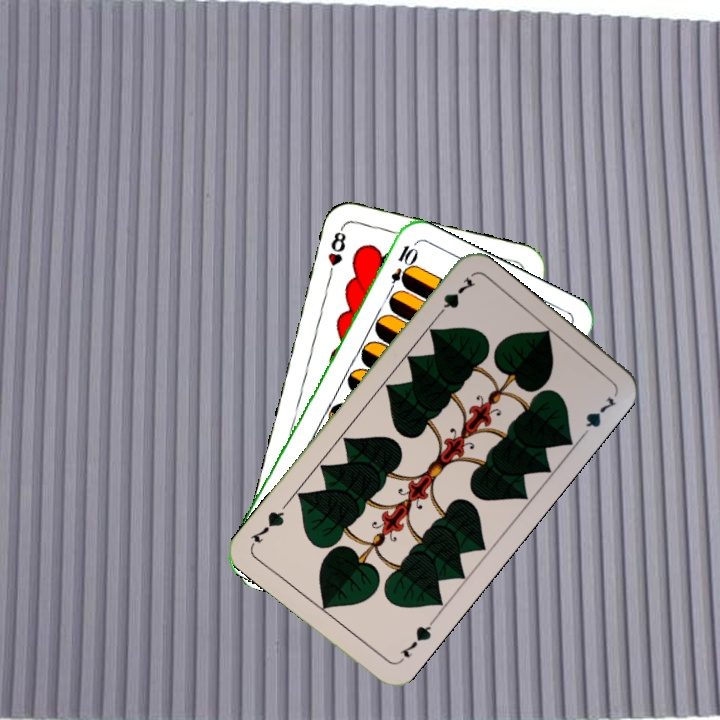E10: (383, 241, 419, 298)
G7: (430, 273, 478, 322), (394, 616, 437, 665)
H8: (324, 223, 349, 282)
